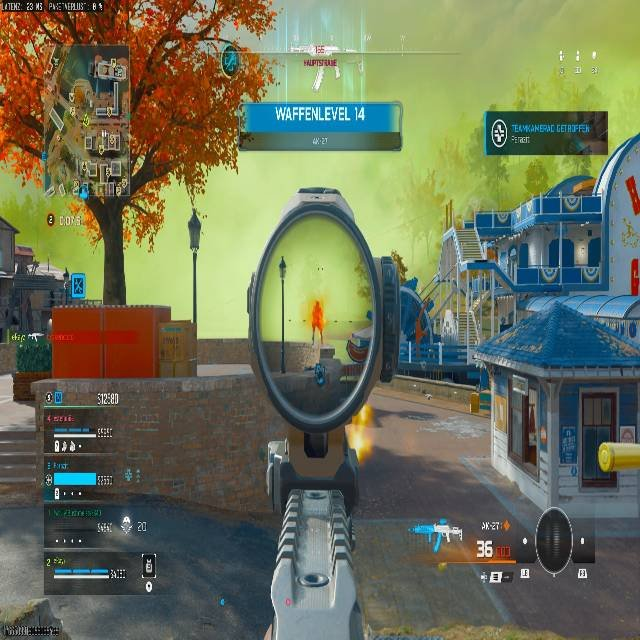player: (311, 300, 323, 342)
